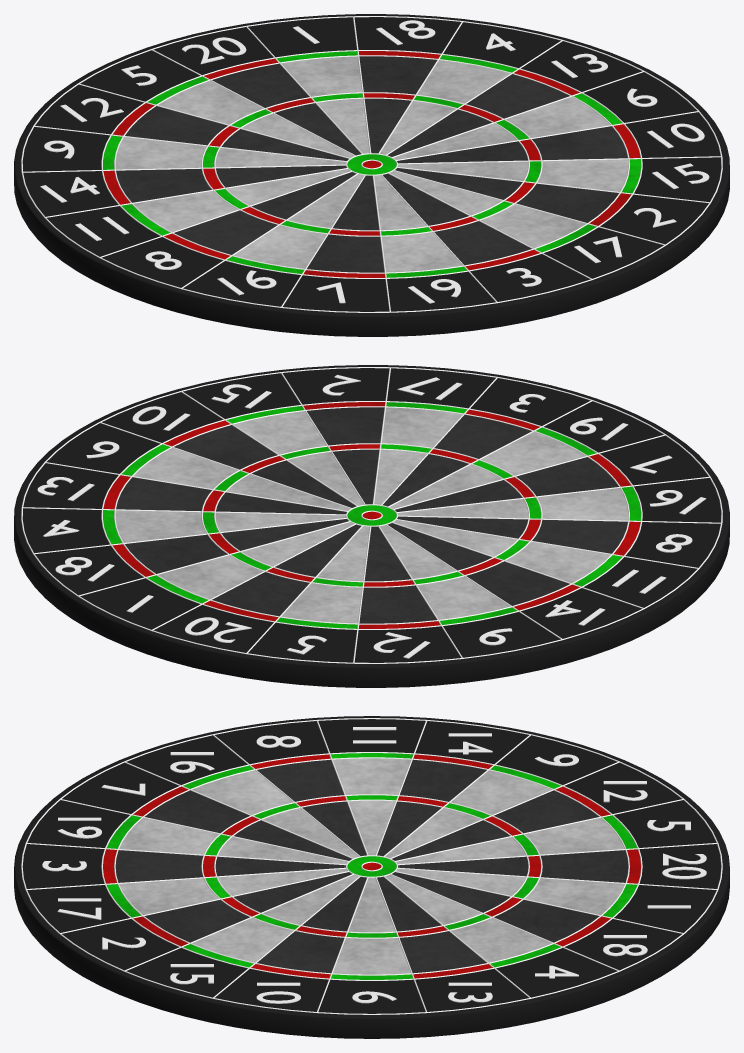
3 views of the same model, one above another, from view 1: azimuth 30°, elevation 25°; view 2: azimuth 150°, elevation 25°; view 3: azimuth 270°, elevation 25° (orthographic).
Visible parts, largest first — view 1: dart_board; view 2: dart_board; view 3: dart_board.
Part boxes in pixels (x1,y1,x2,y2): dart_board: (14, 14, 729, 336); dart_board: (14, 365, 729, 687); dart_board: (14, 716, 729, 1038).
Size of the model in its own units: 0.451 by 0.0155 by 0.451.
3 materials, 1 textured.
